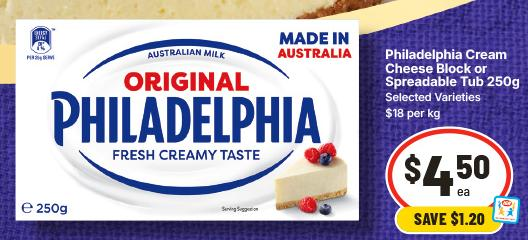description_block: (378, 42, 523, 92)
price_main: (376, 127, 515, 208)
product_image_block: (8, 14, 364, 228)
promo_text_block: (383, 205, 517, 237)
unit_price_block: (379, 105, 449, 124)
